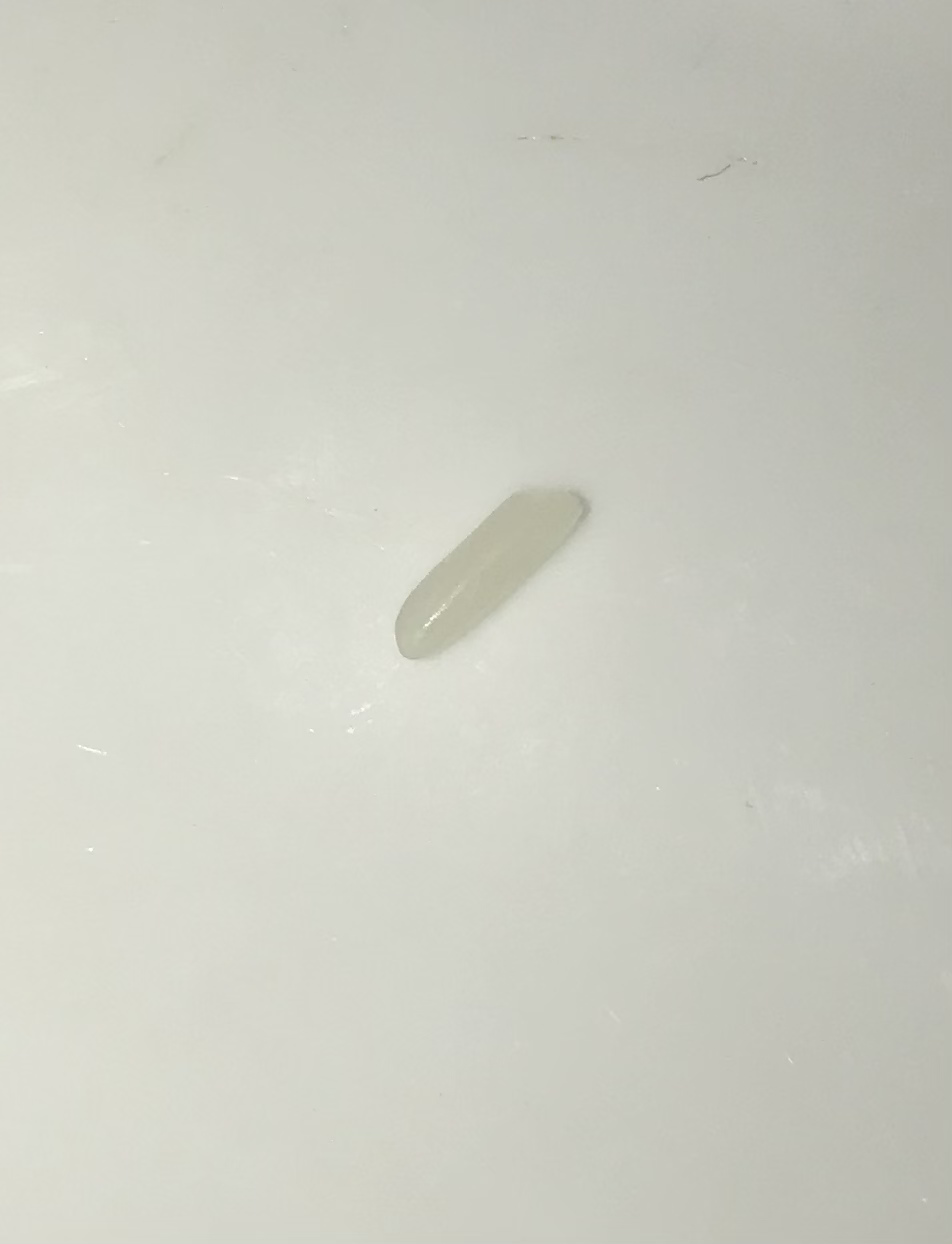Gao Ngoc Troi: (386, 459, 605, 692)
